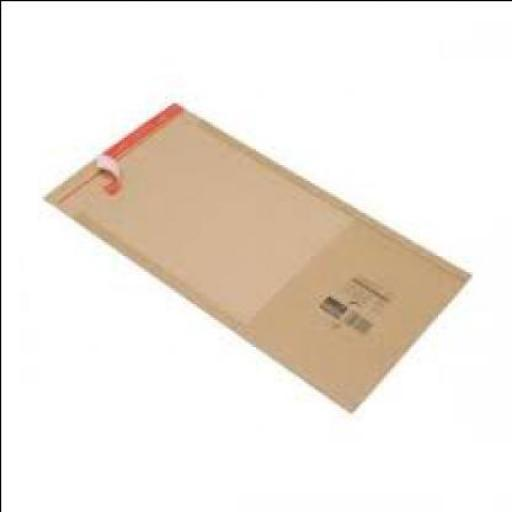cardboard: (38, 97, 467, 410)
